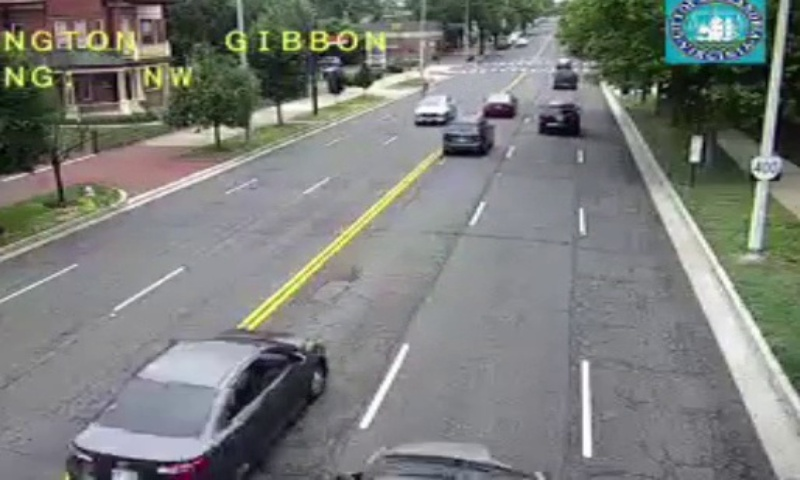car: (65, 329, 326, 480), (443, 122, 493, 154), (538, 104, 578, 135), (484, 93, 515, 116)
